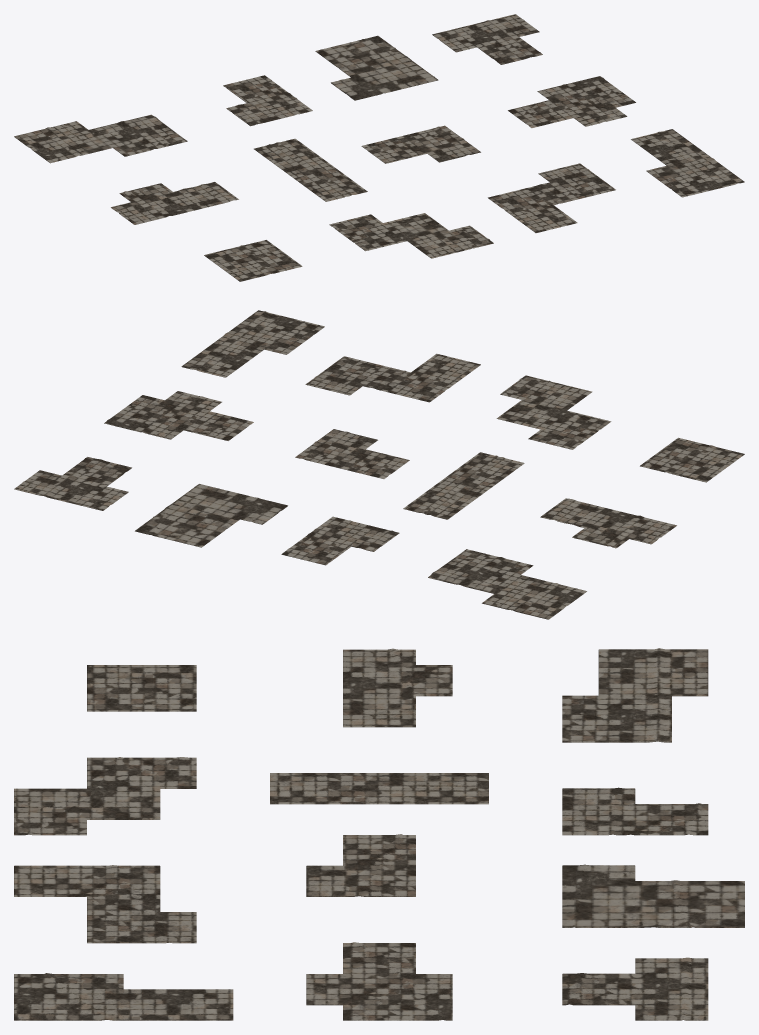
Rendered from Psychiatric_Ward_Infirmary_Floor_Patches_A.glb.
3 views of the same model, one above another, from view 1: azimuth 30°, elevation 25°; view 2: azimuth 150°, elevation 25°; view 3: azimuth 270°, elevation 25° (orthographic). The views are drawn at different scales.
Parts seen in each view (by area): view 1: Floor_Patches_1, Floor_Patches_3, Floor_Patches_10, Floor_Patches_11, Floor_Patches_8, Floor_Patches_12, Floor_Patches_4, Floor_Patches_5, Floor_Patches_6, Floor_Patches_7, Floor_Patches_2, Floor_Patches_9; view 2: Floor_Patches_1, Floor_Patches_3, Floor_Patches_11, Floor_Patches_10, Floor_Patches_8, Floor_Patches_12, Floor_Patches_4, Floor_Patches_5, Floor_Patches_6, Floor_Patches_7, Floor_Patches_2, Floor_Patches_9; view 3: Floor_Patches_1, Floor_Patches_3, Floor_Patches_11, Floor_Patches_10, Floor_Patches_12, Floor_Patches_8, Floor_Patches_4, Floor_Patches_6, Floor_Patches_5, Floor_Patches_2, Floor_Patches_7, Floor_Patches_9.
Part boxes in pixels (bbox=[...]): Floor_Patches_1: bbox=[14, 114, 187, 163]; Floor_Patches_3: bbox=[315, 35, 438, 100]; Floor_Patches_10: bbox=[329, 213, 493, 258]; Floor_Patches_11: bbox=[488, 163, 615, 232]; Floor_Patches_8: bbox=[508, 76, 635, 127]; Floor_Patches_12: bbox=[631, 129, 744, 197]; Floor_Patches_4: bbox=[432, 14, 542, 64]; Floor_Patches_5: bbox=[111, 182, 238, 224]; Floor_Patches_6: bbox=[254, 138, 367, 201]; Floor_Patches_7: bbox=[361, 125, 480, 163]; Floor_Patches_2: bbox=[223, 75, 312, 126]; Floor_Patches_9: bbox=[204, 240, 302, 281]; Floor_Patches_1: bbox=[428, 549, 586, 619]; Floor_Patches_3: bbox=[135, 484, 287, 547]; Floor_Patches_11: bbox=[305, 353, 480, 402]; Floor_Patches_10: bbox=[496, 375, 611, 449]; Floor_Patches_8: bbox=[104, 391, 253, 440]; Floor_Patches_12: bbox=[181, 310, 324, 377]; Floor_Patches_4: bbox=[14, 457, 131, 510]; Floor_Patches_5: bbox=[540, 498, 676, 548]; Floor_Patches_6: bbox=[403, 452, 524, 519]; Floor_Patches_7: bbox=[295, 429, 409, 478]; Floor_Patches_2: bbox=[281, 516, 399, 565]; Floor_Patches_9: bbox=[640, 437, 744, 482]; Floor_Patches_1: bbox=[562, 648, 708, 742]; Floor_Patches_3: bbox=[562, 864, 744, 927]; Floor_Patches_11: bbox=[14, 865, 196, 943]; Floor_Patches_10: bbox=[14, 757, 196, 835]; Floor_Patches_12: bbox=[14, 973, 233, 1020]; Floor_Patches_8: bbox=[306, 942, 452, 1020]; Floor_Patches_4: bbox=[562, 957, 708, 1020]; Floor_Patches_6: bbox=[270, 773, 488, 804]; Floor_Patches_5: bbox=[343, 648, 452, 727]; Floor_Patches_2: bbox=[562, 787, 708, 835]; Floor_Patches_7: bbox=[306, 834, 415, 896]; Floor_Patches_9: bbox=[87, 665, 196, 711].
Bounding box in the file's own units: 12 × 0.0358 × 10.
1 material, 1 textured.
